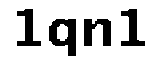1: (12, 7, 45, 50), (116, 6, 149, 49)
n: (83, 14, 114, 49)
q: (48, 16, 80, 60)
